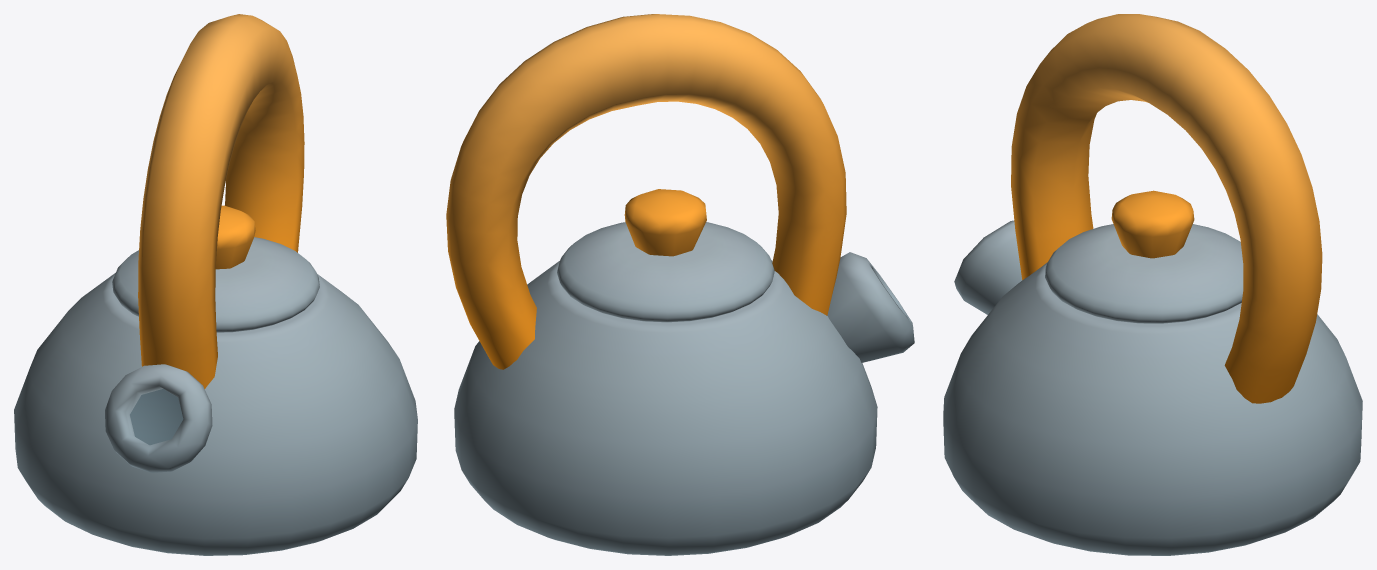
File: Teapot_001.fbx
3 renders of one model, left to right at view 1: azimuth 30°, elevation 25°; view 2: azimuth 150°, elevation 25°; view 3: azimuth 270°, elevation 25°, orthographic. The views are drawn at different scales.
Visible parts, largest first — view 1: Teapot_001; view 2: Teapot_001; view 3: Teapot_001.
Part boxes in pixels (left/top/right/bottom): Teapot_001: left=14, top=14, right=417, bottom=555; Teapot_001: left=446, top=14, right=914, bottom=555; Teapot_001: left=943, top=14, right=1362, bottom=555.
Size of the model in its own units: 0.1925 by 0.2346 by 0.1925.
